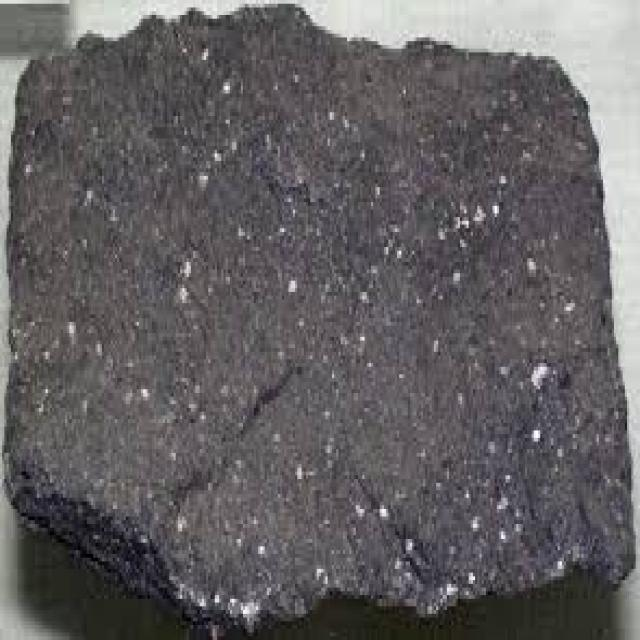Igneous: (2, 4, 638, 625)
